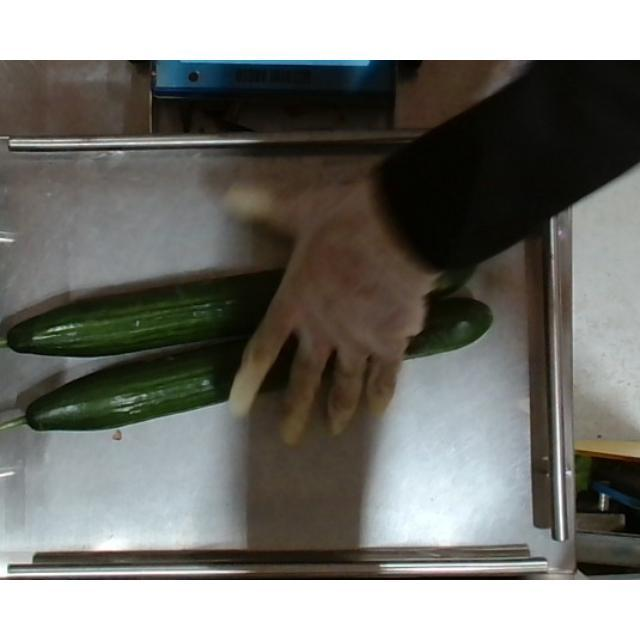cucumber: (1, 298, 493, 437), (3, 245, 474, 358)
